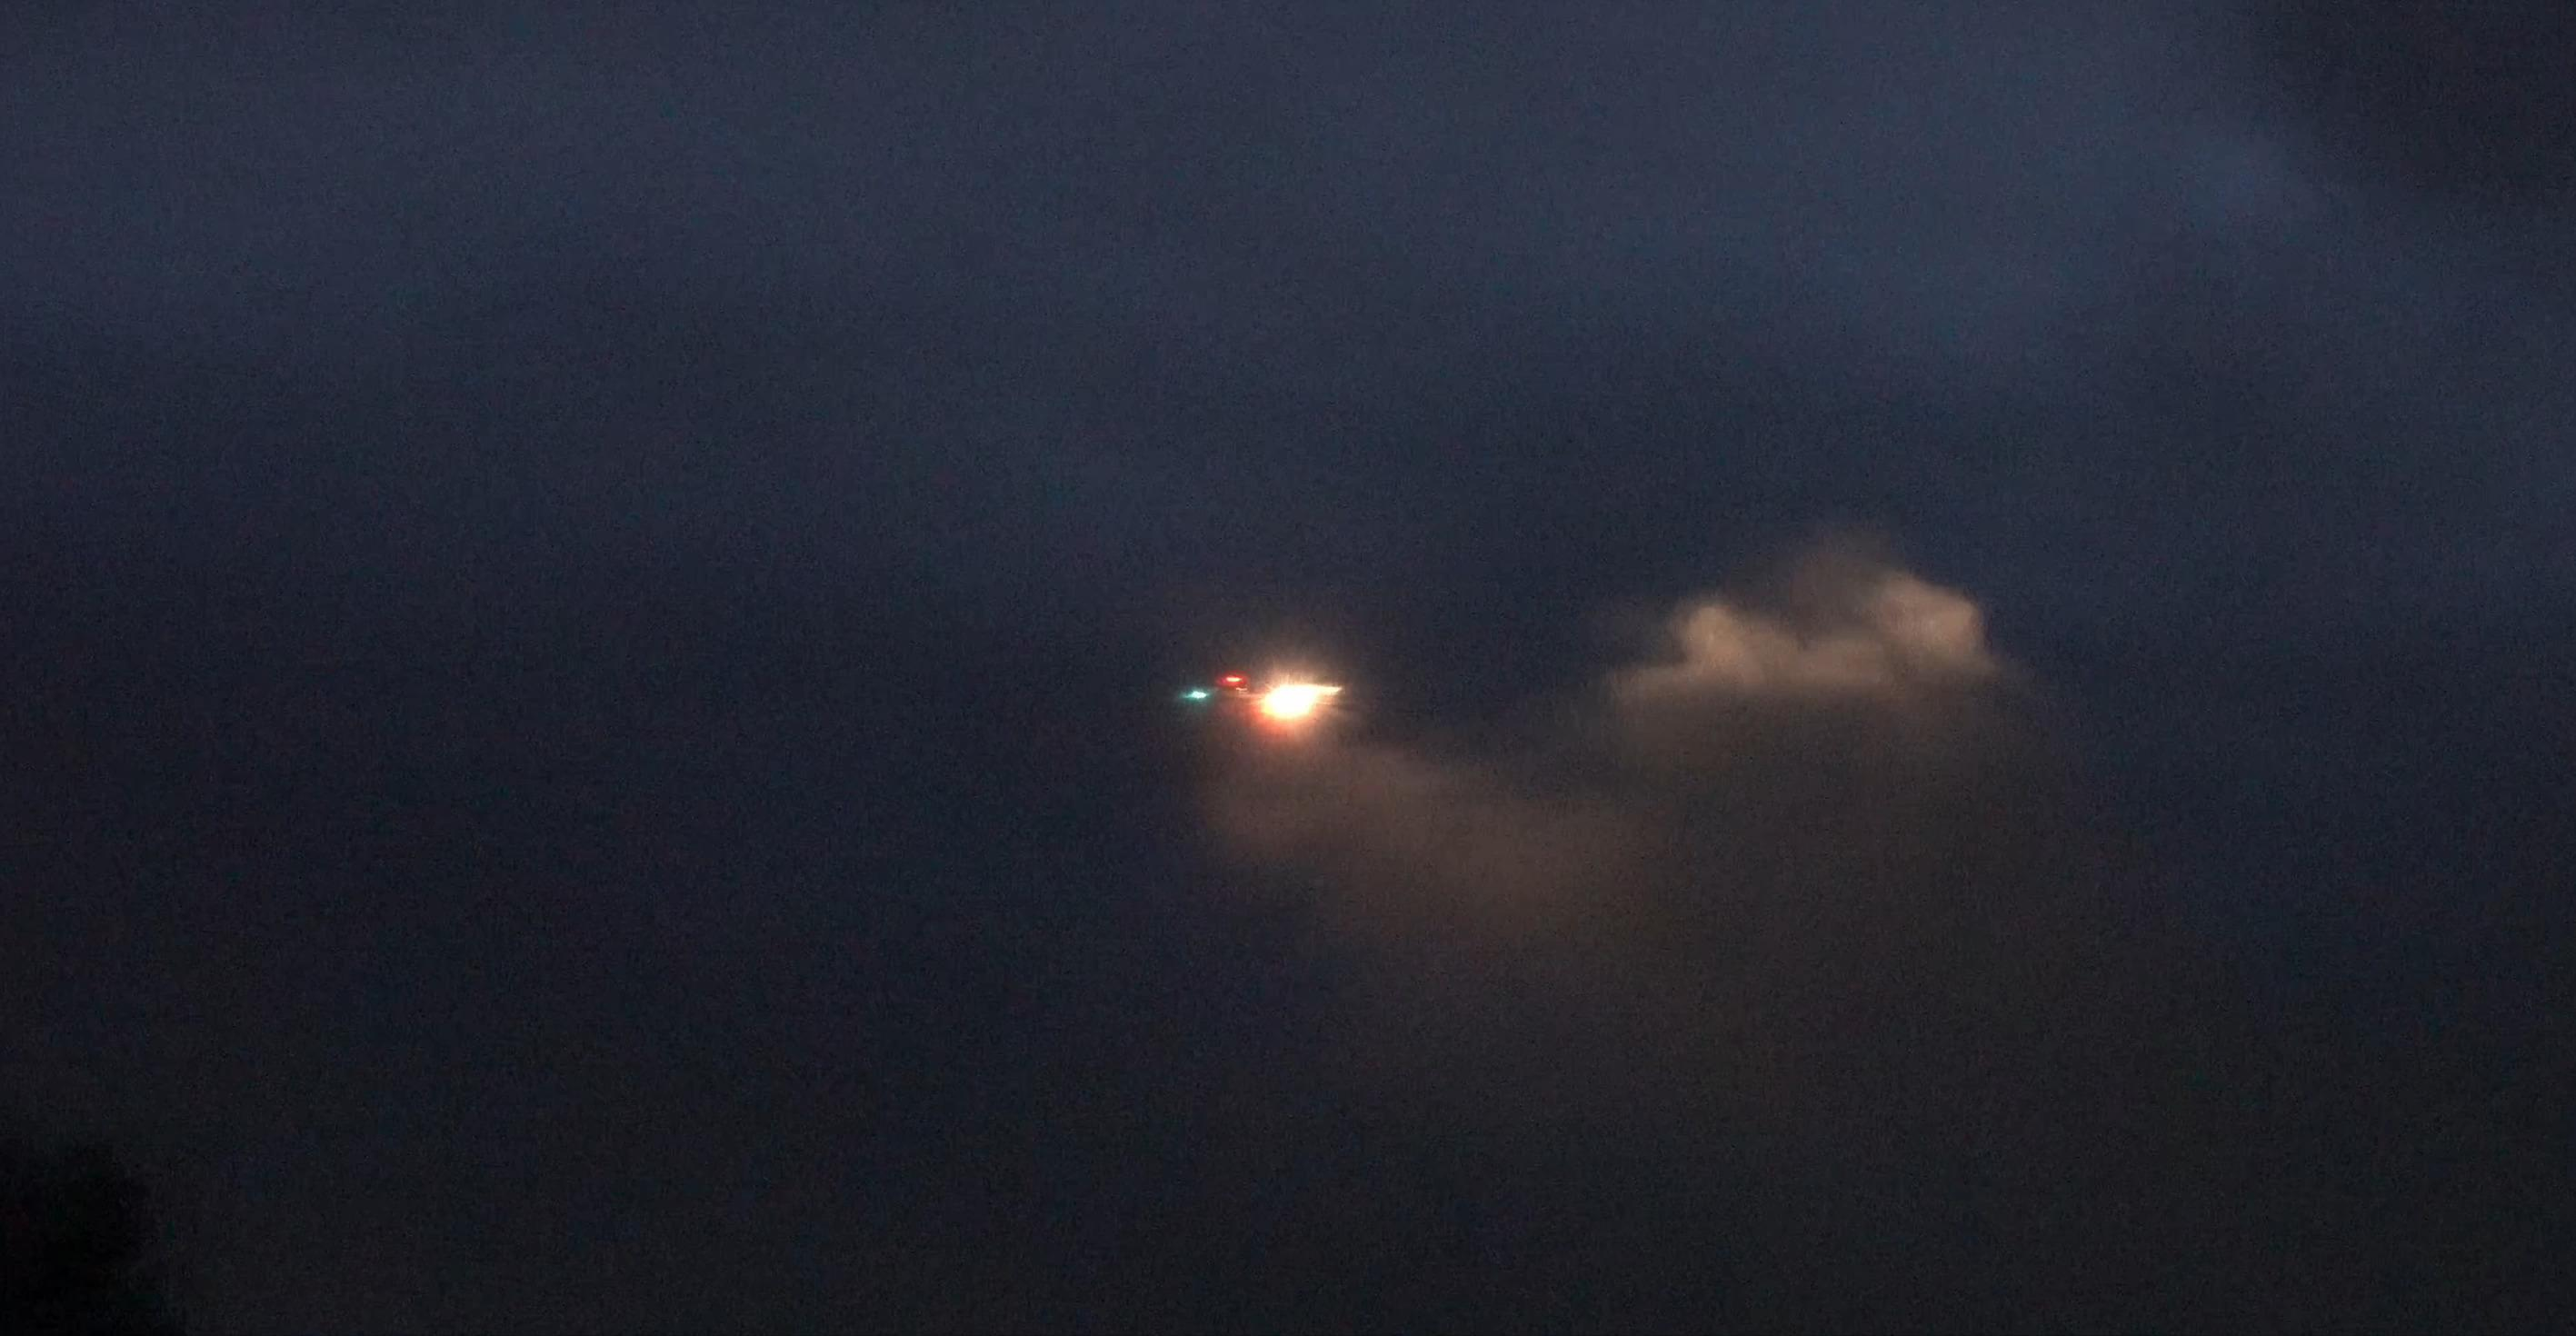Plane: (1082, 619, 1474, 757)
